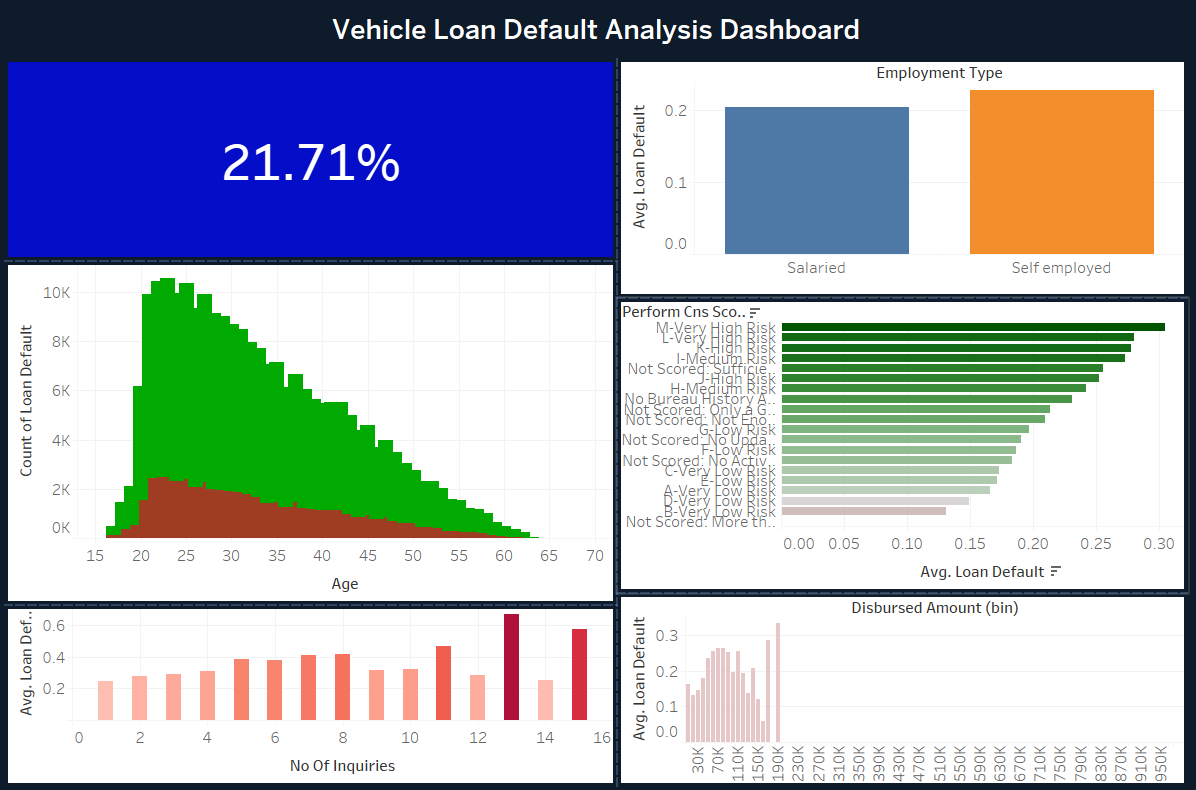

This screenshot's page, from the dashboard's own definition file:
{"tool":"tableau","page":{"name":"Vehicle Loan Default Analysis Dashboard","canvas":[1200,800],"ordinal":0},"visuals":[{"type":"text","box":[8,8,1184,55]},{"type":"worksheet","title":"Default Rate","mark":"Text","box":[8,63,613,203]},{"type":"worksheet","title":"Employment Default","mark":"Automatic","rows":["loan_default"],"cols":["employment_type"],"box":[621,63,571,239.9]},{"type":"worksheet","title":"Age Distribution","mark":"Bar","rows":["loan_default"],"cols":["age"],"box":[8,266,613,343.7]},{"type":"worksheet","title":"Credit Score","mark":"Bar","rows":["perform_cns_score_description"],"cols":["loan_default"],"box":[621,302.9,571,295.2]},{"type":"worksheet","title":"Loan Amount","mark":"Bar","rows":["loan_default"],"cols":["Disbursed Amount (bin)"],"box":[621,598.1,571,193.9]},{"type":"worksheet","title":"Inquiries Risk","mark":"Bar","rows":["loan_default"],"cols":["no_of_inquiries"],"box":[8,609.7,613,182.3]}]}

Visuals, with their boxes in screenshot pixels (x1, y1, x2, y2), scaled from the page's 1200x800 canvas onto the 1196x790 screenshot:
text: box(8, 8, 1188, 62)
"Default Rate" worksheet (Text marks): box(8, 62, 619, 263)
"Employment Default" worksheet: box(619, 62, 1188, 299)
"Age Distribution" worksheet (Bar marks): box(8, 263, 619, 602)
"Credit Score" worksheet (Bar marks): box(619, 299, 1188, 591)
"Loan Amount" worksheet (Bar marks): box(619, 591, 1188, 782)
"Inquiries Risk" worksheet (Bar marks): box(8, 602, 619, 782)
